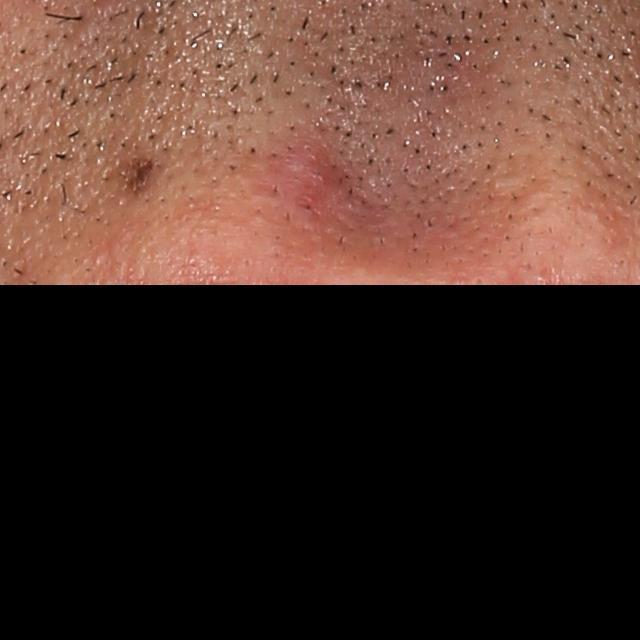nevus: (121, 148, 158, 196)
papule: (276, 137, 346, 209)
